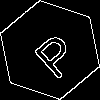P: (25, 25, 82, 81)
